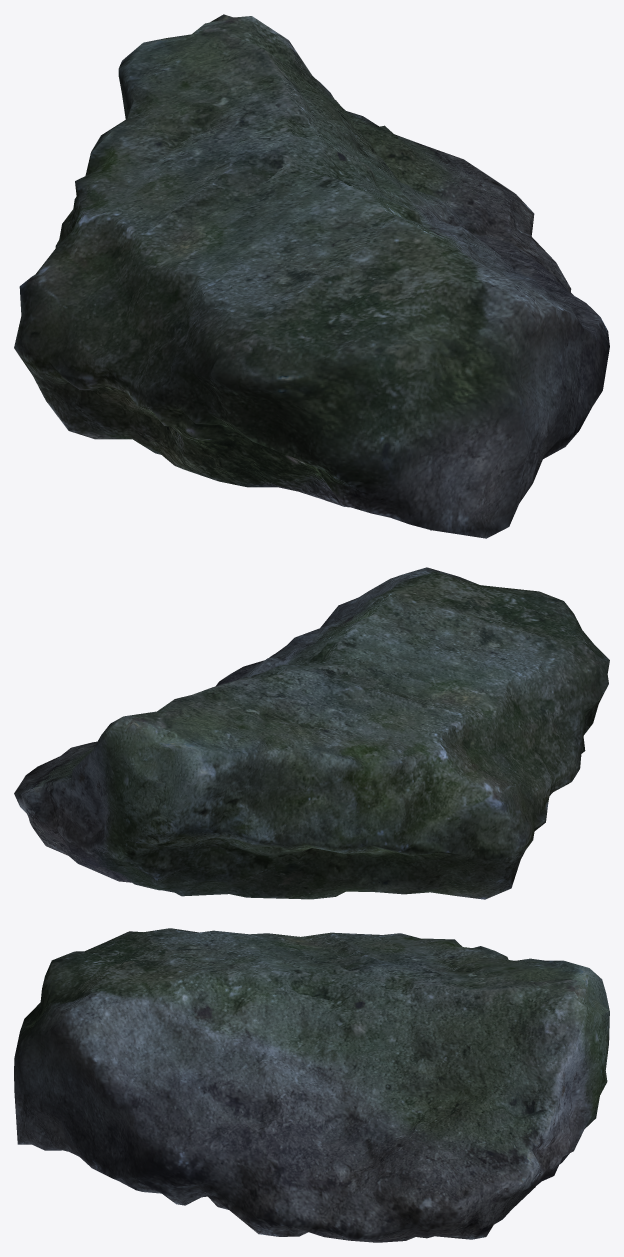
Rendered from Rock1.glb.
3 views of the same model, one above another, from view 1: azimuth 30°, elevation 25°; view 2: azimuth 150°, elevation 25°; view 3: azimuth 270°, elevation 25° (orthographic). The views are drawn at different scales.
Visible parts, largest first — view 1: Group4704_lambert1_0; view 2: Group4704_lambert1_0; view 3: Group4704_lambert1_0.
Boxes of the visible parts, x1,y1,x2,y2 form: Group4704_lambert1_0: (14,14,609,538); Group4704_lambert1_0: (14,567,609,899); Group4704_lambert1_0: (14,928,609,1242).
Size of the model in its own units: 0.2615 by 0.1159 by 0.3106.
1 material, 1 textured.
